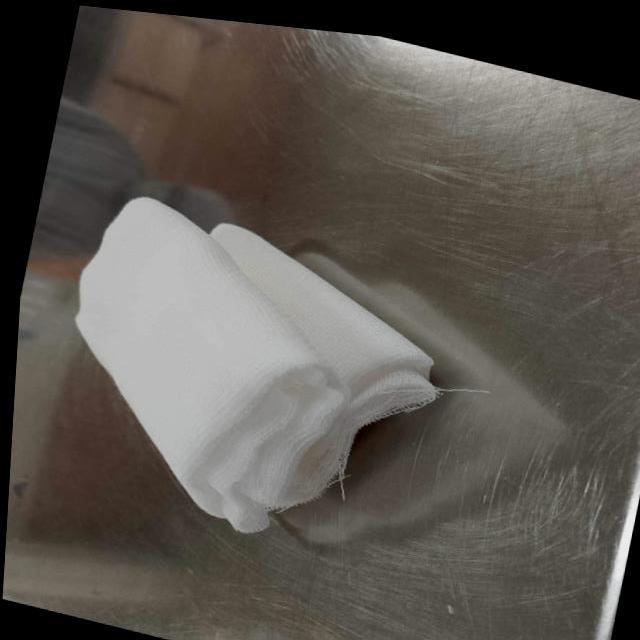General: (4, 5, 639, 639)
Infectious: (72, 195, 443, 534)
